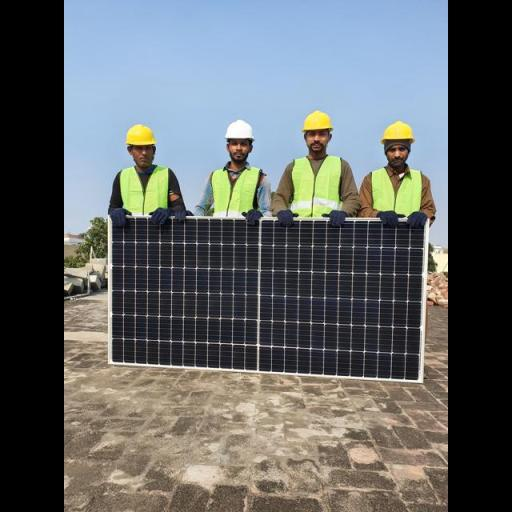Person: (100, 112, 194, 242), (277, 104, 361, 238), (359, 104, 432, 250), (198, 108, 274, 238)
gloves: (240, 204, 269, 235), (104, 204, 136, 230), (274, 208, 302, 231), (377, 205, 402, 230), (406, 205, 424, 238), (171, 206, 195, 229), (148, 206, 174, 226), (324, 210, 350, 230)
helmet: (379, 115, 421, 142), (224, 114, 258, 142), (122, 122, 158, 146), (298, 108, 335, 131)
vest: (290, 151, 348, 226), (209, 156, 264, 218), (113, 160, 171, 218), (364, 164, 422, 218)
